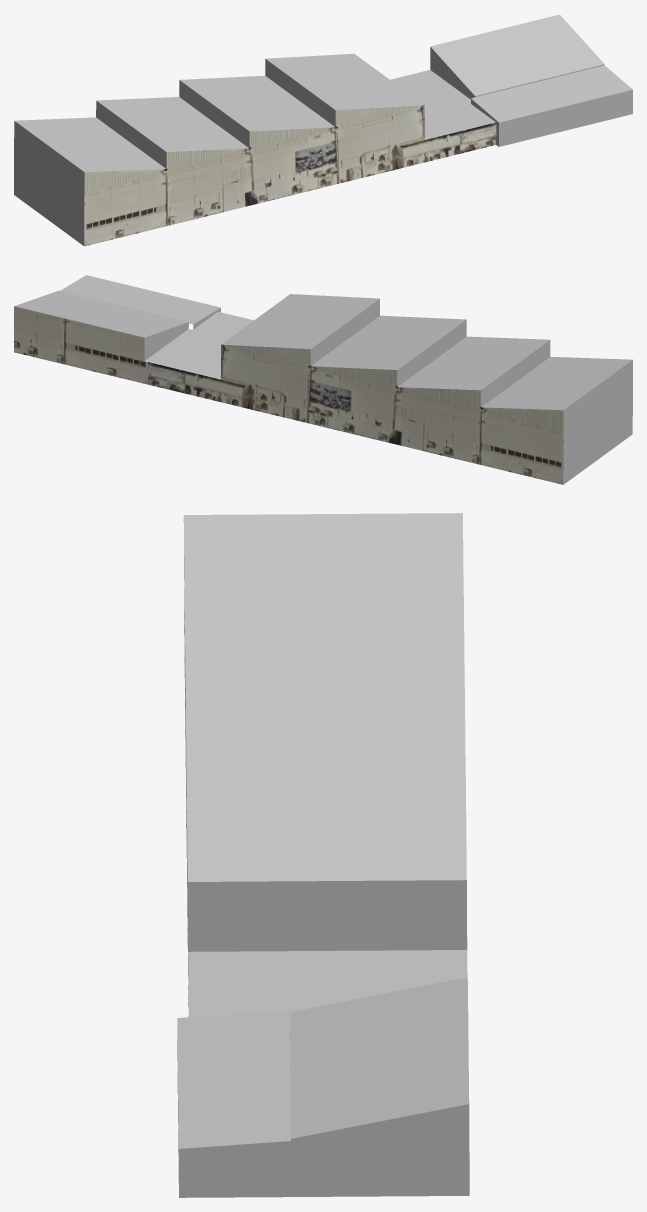
The model's file is Techni_Hangar1.gltf.
3 views of the same model, one above another, from view 1: azimuth 30°, elevation 25°; view 2: azimuth 150°, elevation 25°; view 3: azimuth 270°, elevation 25° (orthographic). The views are drawn at different scales.
Visible parts, largest first — view 1: node2, node1; view 2: node2, node1; view 3: node2.
Boxes of the visible parts, x1,y1,x2,y2 form: node2: [14, 14, 632, 245]; node1: [84, 105, 496, 246]; node2: [14, 275, 632, 484]; node1: [14, 306, 563, 484]; node2: [177, 513, 469, 1197].
Bounding box in the file's own units: 91.12 × 11.94 × 21.07.
